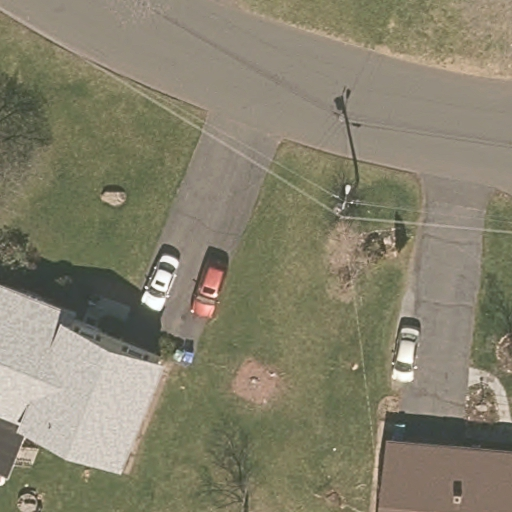DT: (337, 182, 355, 212)
